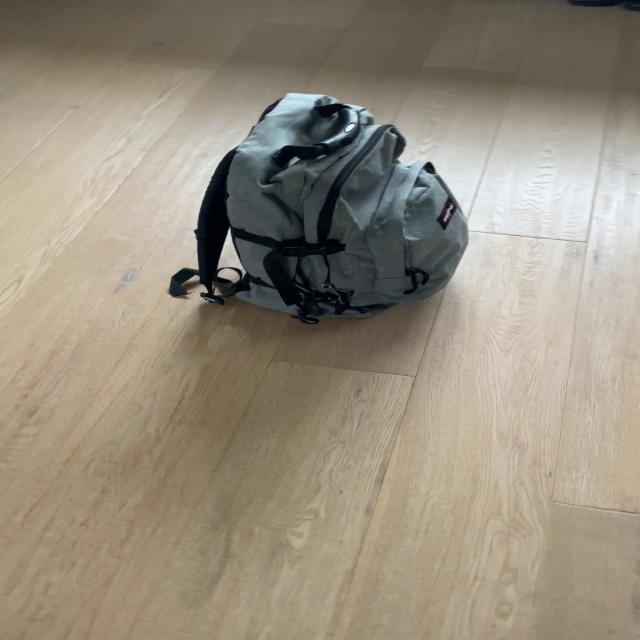backpack: (187, 86, 479, 330)
